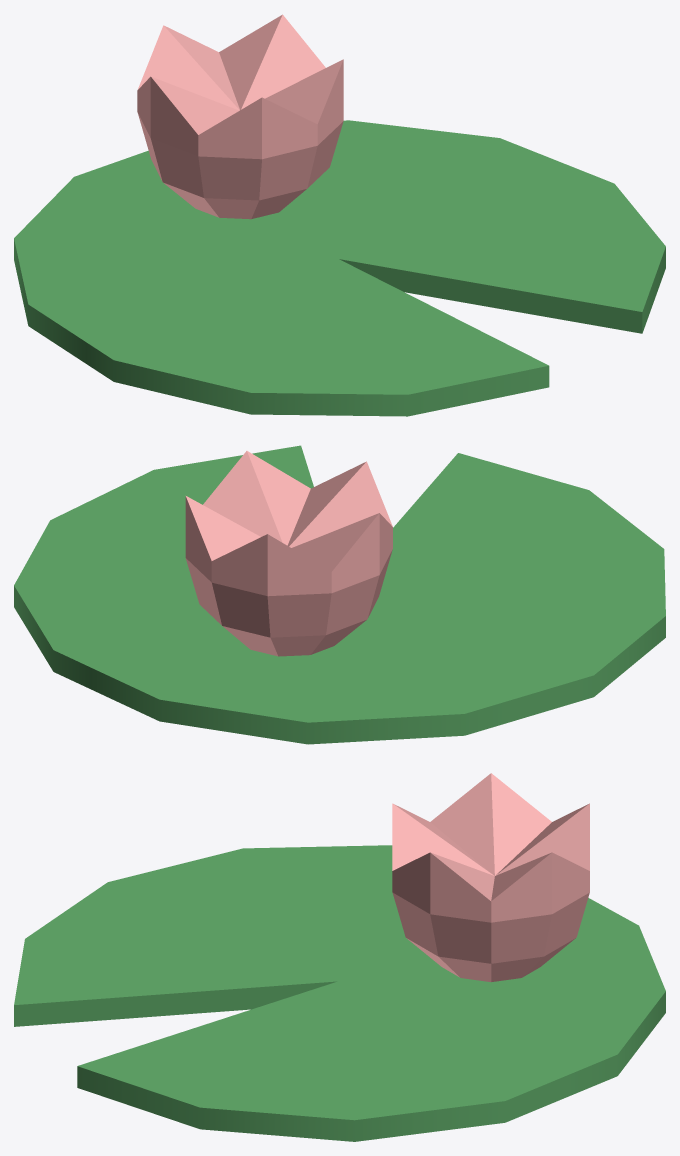
Rendered from LilyPad2.fbx.
3 views of the same model, one above another, from view 1: azimuth 30°, elevation 25°; view 2: azimuth 150°, elevation 25°; view 3: azimuth 270°, elevation 25° (orthographic).
Parts seen in each view (by area): view 1: pCylinder7; view 2: pCylinder7; view 3: pCylinder7.
Boxes of the visible parts, bbox=[...] form: pCylinder7: bbox=[14, 14, 665, 416]; pCylinder7: bbox=[14, 445, 665, 744]; pCylinder7: bbox=[14, 773, 665, 1141].
Size of the model in its own units: 2.9 by 0.8618 by 2.9.
